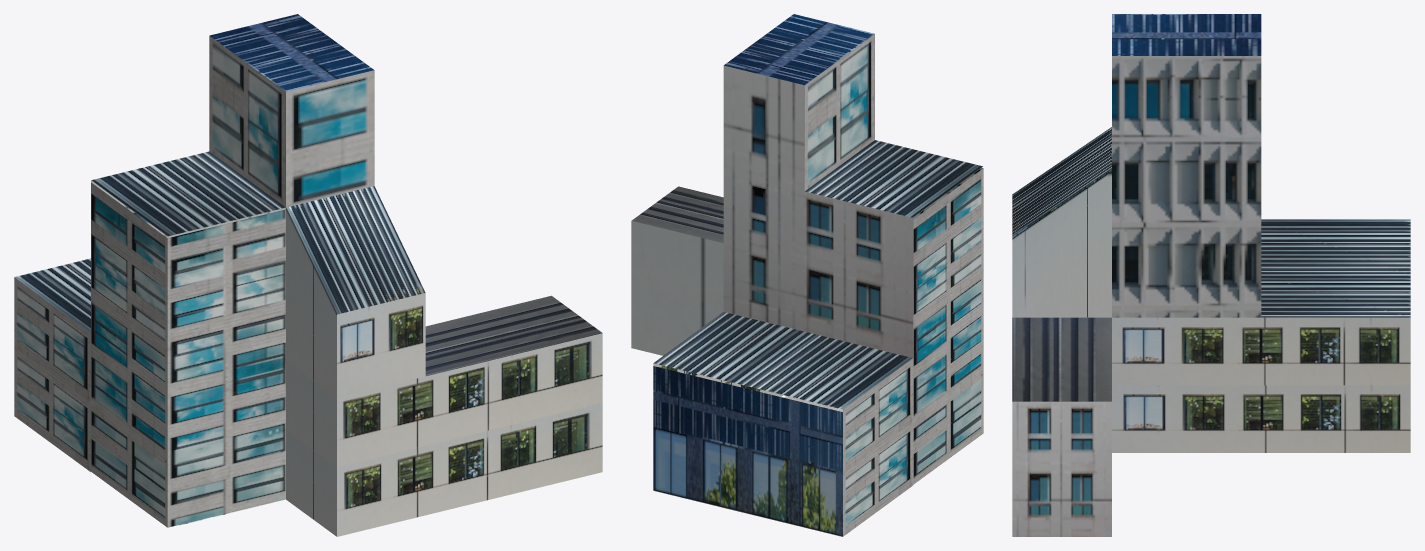
Rendered from Ufficio01.fbx.
3 views of the same model, side by side, from view 1: azimuth 30°, elevation 25°; view 2: azimuth 150°, elevation 25°; view 3: azimuth 270°, elevation 25° (orthographic). The views are drawn at different scales.
Visible parts, largest first — view 1: Plane.010; view 2: Plane.010; view 3: Plane.010.
Boxes of the visible parts, left/top/right/bottom form: Plane.010: left=14, top=14, right=602, bottom=536; Plane.010: left=631, top=14, right=983, bottom=536; Plane.010: left=1012, top=14, right=1410, bottom=536.
Size of the model in its own units: 1734 by 1760 by 1600.
